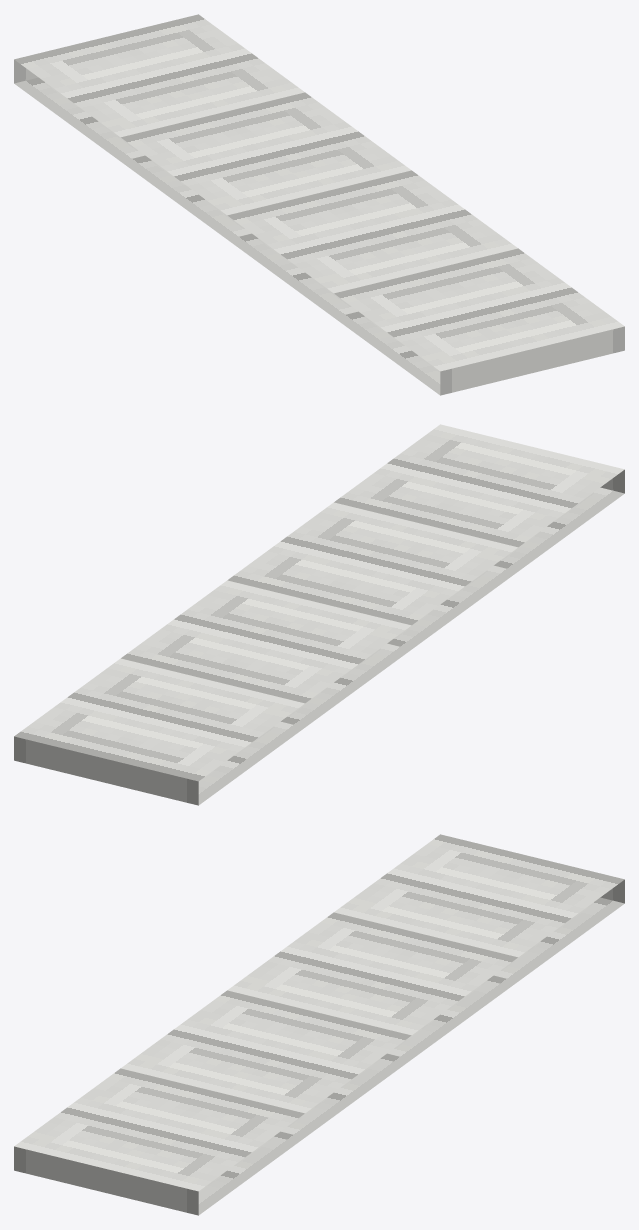
File: white_run_4.obj
3 views of the same model, one above another, from view 1: azimuth 30°, elevation 25°; view 2: azimuth 150°, elevation 25°; view 3: azimuth 330°, elevation 25° (orthographic).
Parts seen in each view (by area): view 1: run; view 2: run; view 3: run.
Boxes of the visible parts, bbox=[...] form: run: bbox=[14, 14, 624, 395]; run: bbox=[14, 424, 624, 805]; run: bbox=[14, 834, 624, 1215].
Size of the model in its own units: 1 by 0.125 by 4.
